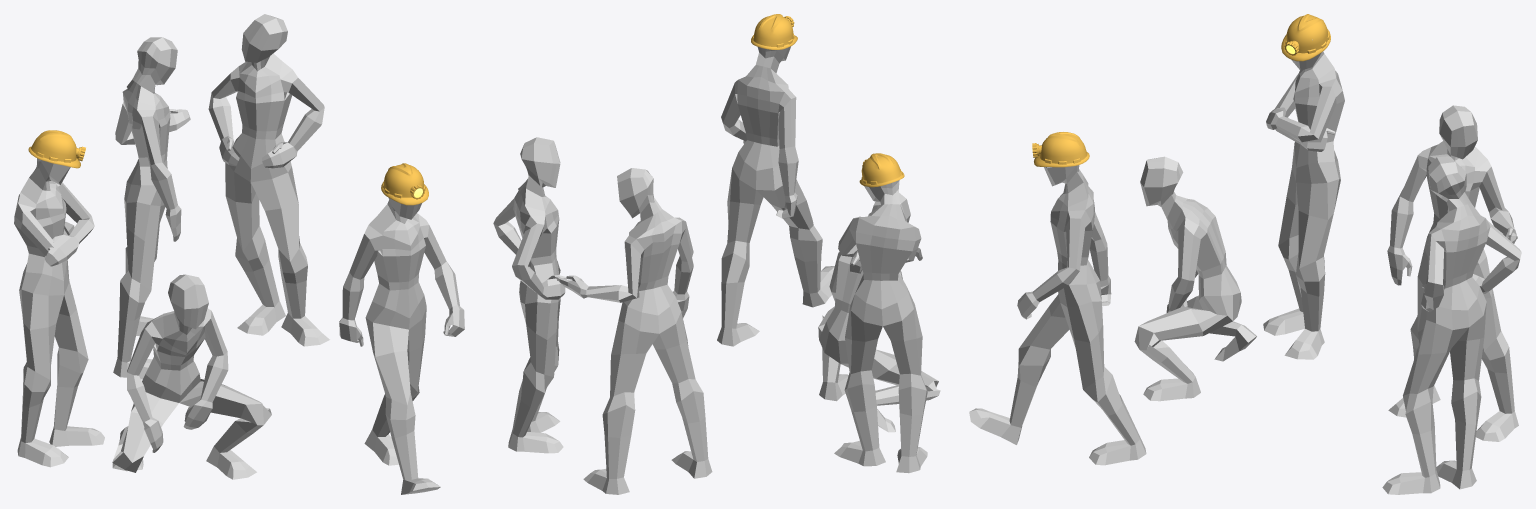
File: white gang.gltf
The picture shows the model from 3 angles, left to right: view 1: azimuth 30°, elevation 25°; view 2: azimuth 150°, elevation 25°; view 3: azimuth 270°, elevation 25°; orthographic projection. The views are drawn at different scales.
Visible parts, largest first — view 1: Cube008__0, Cube009__0, Cube007__0, Cube010__0, Cube001__0, Object_4, Object_4_1; view 2: Cube001__0, Cube007__0, Cube009__0, Cube008__0, Cube010__0, Object_4, Object_4_1; view 3: Cube008__0, Cube009__0, Cube007__0, Cube010__0, Cube001__0, Object_4_1, Object_4.
Boxes of the visible parts, x1,y1,x2,y2 form: Cube008__0: [208, 14, 329, 346]; Cube009__0: [339, 198, 464, 494]; Cube007__0: [14, 158, 104, 467]; Cube010__0: [112, 274, 271, 479]; Cube001__0: [113, 37, 190, 379]; Object_4: [381, 163, 428, 205]; Object_4_1: [28, 130, 85, 168]; Cube001__0: [556, 168, 712, 494]; Cube007__0: [834, 180, 927, 473]; Cube009__0: [717, 46, 834, 346]; Cube008__0: [493, 137, 566, 453]; Cube010__0: [818, 193, 940, 432]; Object_4: [751, 14, 797, 49]; Object_4_1: [859, 153, 904, 187]; Cube008__0: [1382, 156, 1521, 494]; Cube009__0: [969, 165, 1146, 465]; Cube007__0: [1263, 39, 1344, 359]; Cube010__0: [1134, 156, 1256, 401]; Cube001__0: [1387, 105, 1518, 441]; Object_4_1: [1281, 14, 1330, 61]; Object_4: [1032, 132, 1089, 167].
Bounding box in the file's own units: 2.16 × 1.76 × 2.74.
